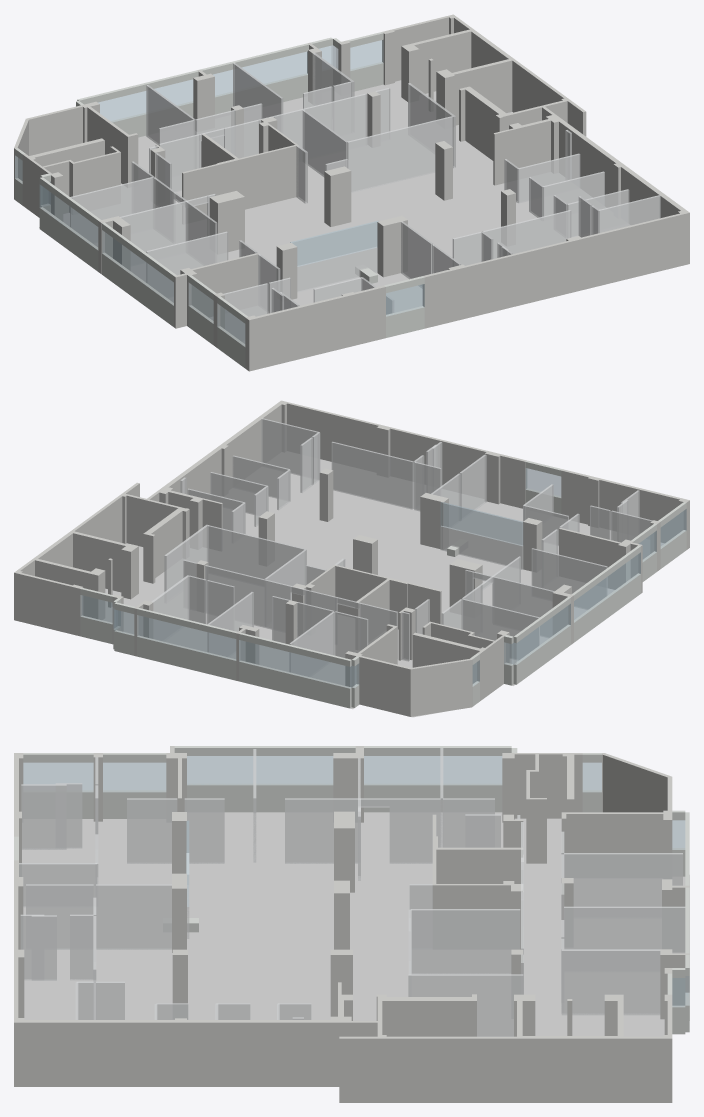
File: 09-vector-floor.glb
3 views of the same model, one above another, from view 1: azimuth 30°, elevation 25°; view 2: azimuth 150°, elevation 25°; view 3: azimuth 270°, elevation 25° (orthographic). The views are drawn at different scales.
Visible parts, largest first — view 1: Floor4_09-vector-floor_concrete_Blocking, Floor4_09-vector-floor_acrylic_Blocking, Floor4_09-vector-floor_Floor, Floor4_09-vector-floor_wall_Blocking, Floor4_09-vector-floor_glass_Blocking; view 2: Floor4_09-vector-floor_concrete_Blocking, Floor4_09-vector-floor_acrylic_Blocking, Floor4_09-vector-floor_Floor, Floor4_09-vector-floor_wall_Blocking, Floor4_09-vector-floor_glass_Blocking; view 3: Floor4_09-vector-floor_concrete_Blocking, Floor4_09-vector-floor_Floor, Floor4_09-vector-floor_acrylic_Blocking, Floor4_09-vector-floor_wall_Blocking, Floor4_09-vector-floor_glass_Blocking.
Part boxes in pixels (x1,y1,x2,y2): Floor4_09-vector-floor_concrete_Blocking: (14, 14, 689, 371); Floor4_09-vector-floor_acrylic_Blocking: (70, 53, 660, 341); Floor4_09-vector-floor_Floor: (39, 80, 628, 343); Floor4_09-vector-floor_wall_Blocking: (15, 32, 424, 368); Floor4_09-vector-floor_glass_Blocking: (15, 40, 424, 346); Floor4_09-vector-floor_concrete_Blocking: (14, 400, 689, 716); Floor4_09-vector-floor_acrylic_Blocking: (151, 418, 652, 676); Floor4_09-vector-floor_Floor: (103, 452, 664, 717); Floor4_09-vector-floor_wall_Blocking: (80, 460, 686, 708); Floor4_09-vector-floor_glass_Blocking: (80, 468, 686, 688); Floor4_09-vector-floor_concrete_Blocking: (14, 746, 689, 1102); Floor4_09-vector-floor_Floor: (22, 812, 689, 1036); Floor4_09-vector-floor_acrylic_Blocking: (19, 748, 685, 1036); Floor4_09-vector-floor_wall_Blocking: (14, 746, 689, 1034); Floor4_09-vector-floor_glass_Blocking: (23, 756, 689, 1007).
Bounding box in the file's own units: 23.41 × 2.4 × 22.85.
